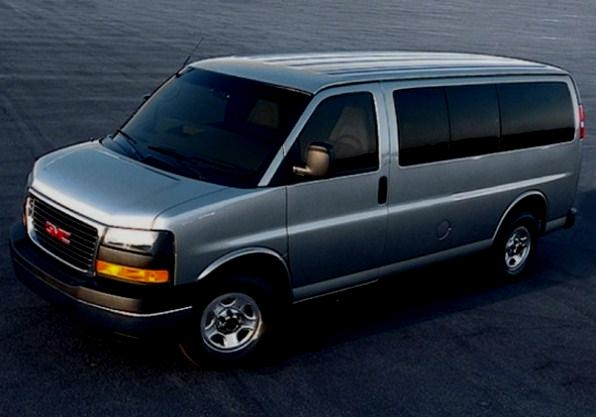GMC: (39, 217, 79, 249)
